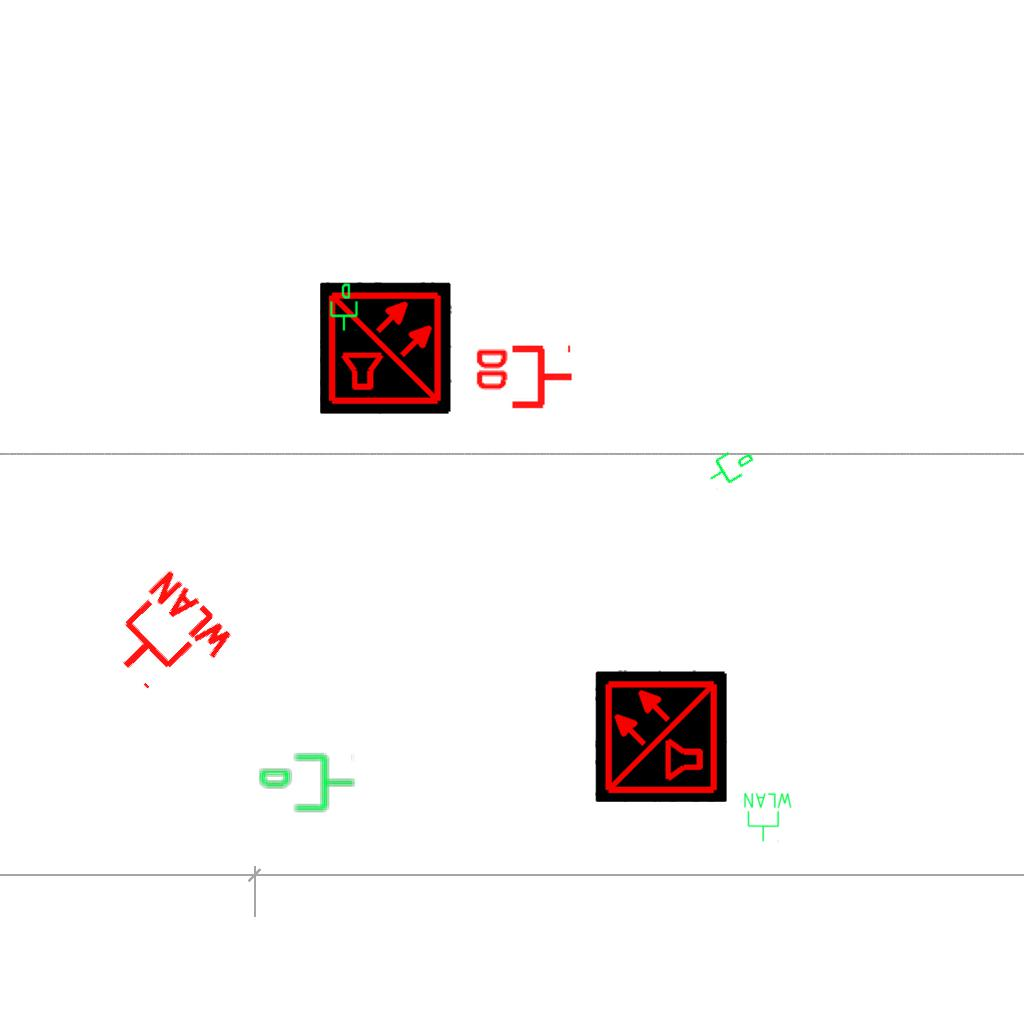Datenanschluss_einfach: (257, 750, 357, 819), (699, 438, 761, 494), (326, 282, 360, 332)
Datenanschluss_zweifach: (472, 344, 575, 413)
OKW_Multisensormelder_(Kombination_optischer_Rauch-Kahlenmonoxid_Waerme-Melder): (320, 282, 452, 414), (595, 670, 727, 802)
WLAN: (92, 565, 241, 713), (742, 791, 794, 843)
